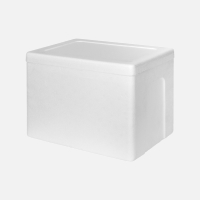Foam Box: (23, 36, 179, 164)
